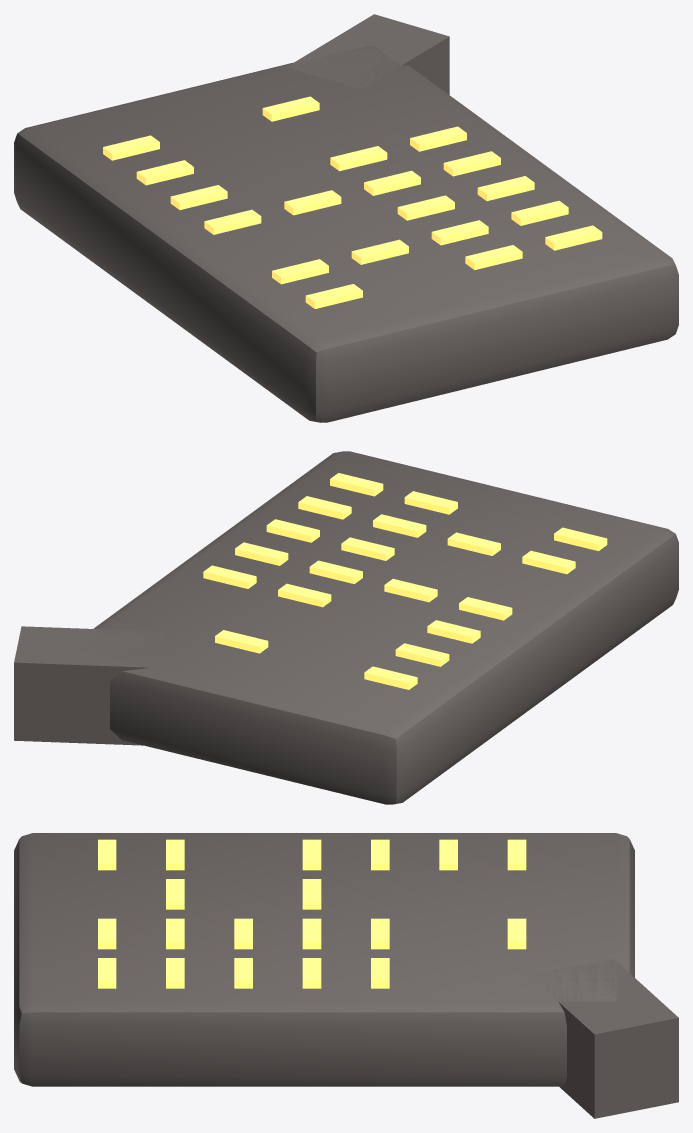
Rendered from quest_tablet.glb.
The picture shows the model from 3 angles, top to bottom: view 1: azimuth 30°, elevation 25°; view 2: azimuth 150°, elevation 25°; view 3: azimuth 270°, elevation 25°; orthographic projection. The views are drawn at different scales.
Parts seen in each view (by area): view 1: quest_tablet; view 2: quest_tablet; view 3: quest_tablet.
Boxes of the visible parts, <box> form: quest_tablet: <box>14,14,678,422</box>; quest_tablet: <box>14,451,678,804</box>; quest_tablet: <box>14,833,678,1118</box>.
Bounding box in the file's own units: 0.159 × 0.0325 × 0.2142.
